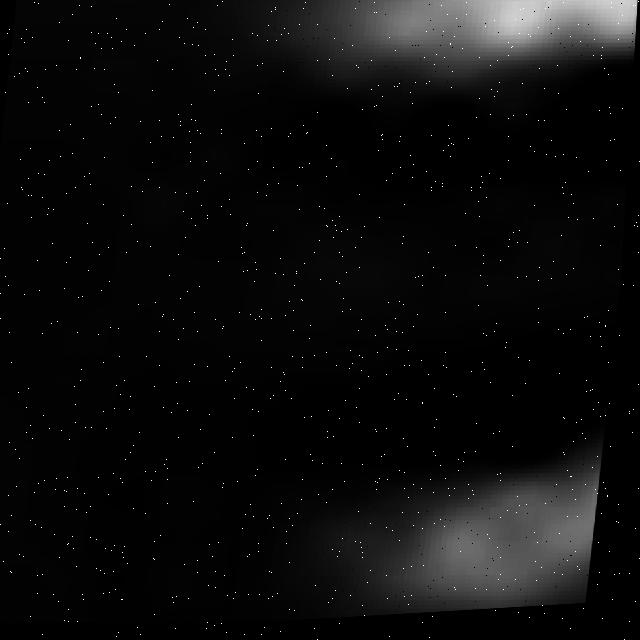person: (280, 380, 617, 627), (243, 1, 640, 158)
